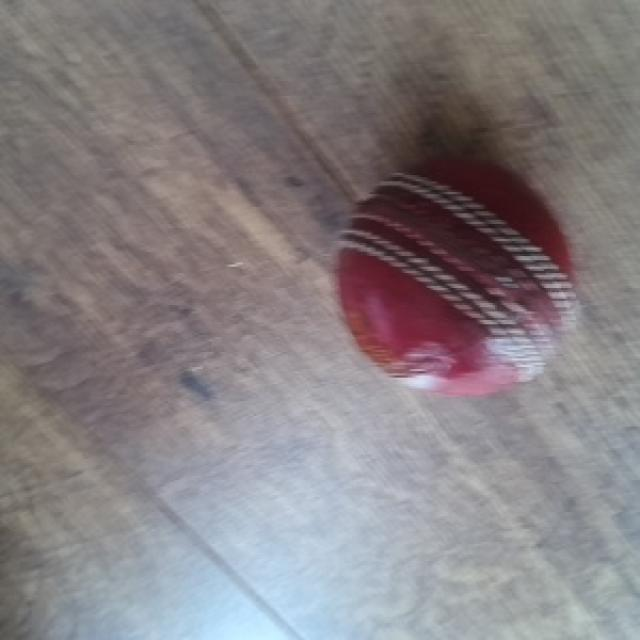ball: (333, 154, 578, 401)
